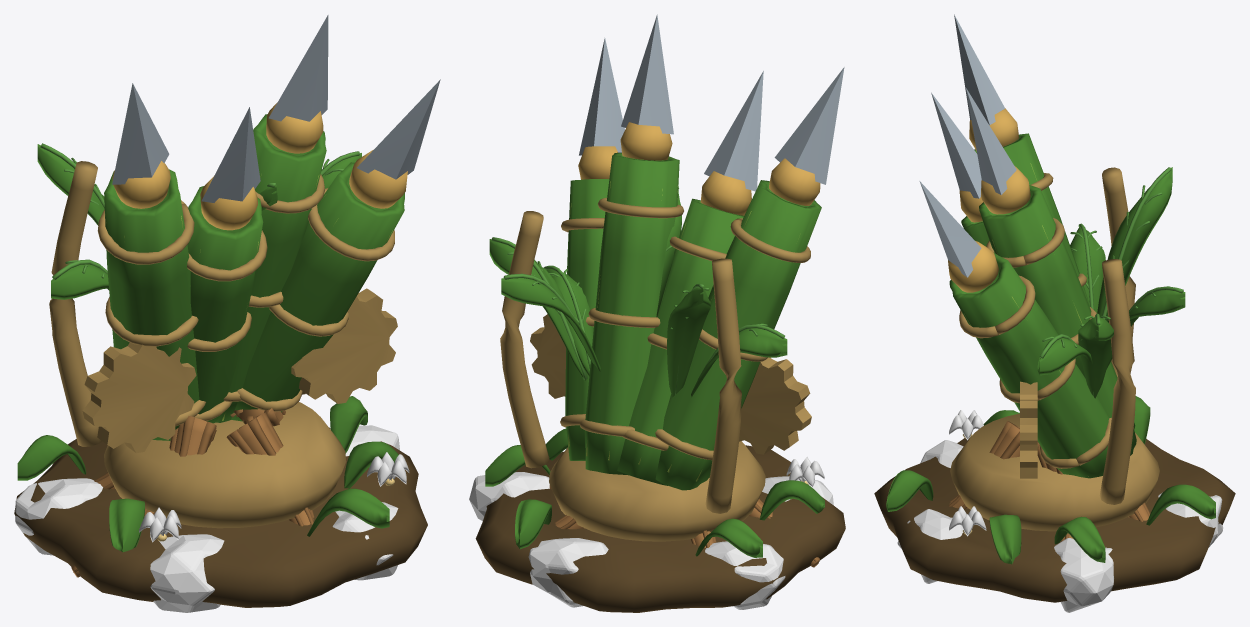
Rendered from bamboo-3.fbx.
The picture shows the model from 3 angles, left to right: view 1: azimuth 30°, elevation 25°; view 2: azimuth 150°, elevation 25°; view 3: azimuth 270°, elevation 25°; orthographic projection. The views are drawn at different scales.
Parts seen in each view (by area): view 1: Spears_PortalBamboo, Turret_Metal, Spears_Metal, bamboo-3_Organic, bamboo-3_Stone, bamboo-3_PortalBamboo, Petals_PortalBamboo, bamboo-3_Bark, bamboo-3_Petal; view 2: Spears_PortalBamboo, Turret_Metal, Spears_Metal, bamboo-3_Organic, Petals_PortalBamboo, bamboo-3_Stone, bamboo-3_PortalBamboo, bamboo-3_Bark, bamboo-3_Petal; view 3: Spears_PortalBamboo, bamboo-3_Organic, Turret_Metal, Spears_Metal, Petals_PortalBamboo, bamboo-3_PortalBamboo, bamboo-3_Stone, bamboo-3_Bark, bamboo-3_Petal.
Part boxes in pixels (x1=…): Spears_PortalBamboo: x1=104, y1=114, x2=404, y2=440; Turret_Metal: x1=49, y1=161, x2=397, y2=528; Spears_Metal: x1=97, y1=15, x2=440, y2=426; bamboo-3_Organic: x1=14, y1=427, x2=427, y2=607; bamboo-3_Stone: x1=15, y1=425, x2=399, y2=612; bamboo-3_PortalBamboo: x1=17, y1=396, x2=398, y2=552; Petals_PortalBamboo: x1=37, y1=143, x2=361, y2=299; bamboo-3_Bark: x1=71, y1=408, x2=314, y2=577; bamboo-3_Petal: x1=139, y1=452, x2=409, y2=542; Spears_PortalBamboo: x1=565, y1=152, x2=821, y2=490; Turret_Metal: x1=500, y1=211, x2=811, y2=541; Spears_Metal: x1=560, y1=14, x2=844, y2=460; bamboo-3_Organic: x1=475, y1=445, x2=845, y2=612; Petals_PortalBamboo: x1=489, y1=186, x2=787, y2=397; bamboo-3_Stone: x1=469, y1=472, x2=833, y2=609; bamboo-3_PortalBamboo: x1=485, y1=428, x2=824, y2=557; bamboo-3_Bark: x1=549, y1=485, x2=820, y2=567; bamboo-3_Petal: x1=786, y1=457, x2=824, y2=487; Spears_PortalBamboo: x1=949, y1=133, x2=1136, y2=478; bamboo-3_Organic: x1=874, y1=434, x2=1235, y2=602; Turret_Metal: x1=950, y1=167, x2=1159, y2=531; Spears_Metal: x1=919, y1=14, x2=1117, y2=468; Petals_PortalBamboo: x1=1037, y1=167, x2=1185, y2=398; bamboo-3_PortalBamboo: x1=886, y1=396, x2=1215, y2=564; bamboo-3_Stone: x1=897, y1=440, x2=1223, y2=612; bamboo-3_Bark: x1=948, y1=421, x2=1150, y2=541; bamboo-3_Petal: x1=949, y1=410, x2=986, y2=536.
Size of the model in its own units: 82.07 by 121 by 82.7.
